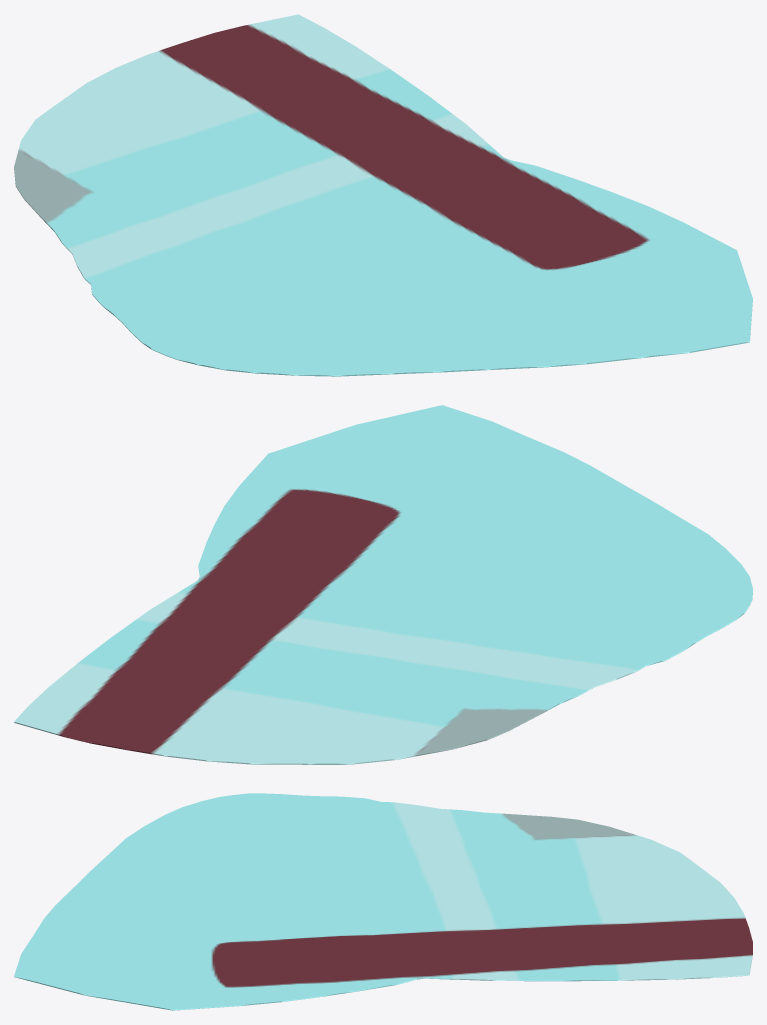
Rendered from Level 144 roll to peel tattoo sticker.fbx.
3 renders of one model, top to bottom at view 1: azimuth 30°, elevation 25°; view 2: azimuth 150°, elevation 25°; view 3: azimuth 270°, elevation 25°, orthographic. The views are drawn at different scales.
Visible parts, largest first — view 1: Blend; view 2: Blend; view 3: Blend.
Boxes of the visible parts, x1=… form: Blend: x1=14, y1=14, x2=752, y2=376; Blend: x1=14, y1=405, x2=752, y2=764; Blend: x1=14, y1=793, x2=752, y2=1010.
Size of what is drawn, in the model's own units: 507 by 1 by 731.
